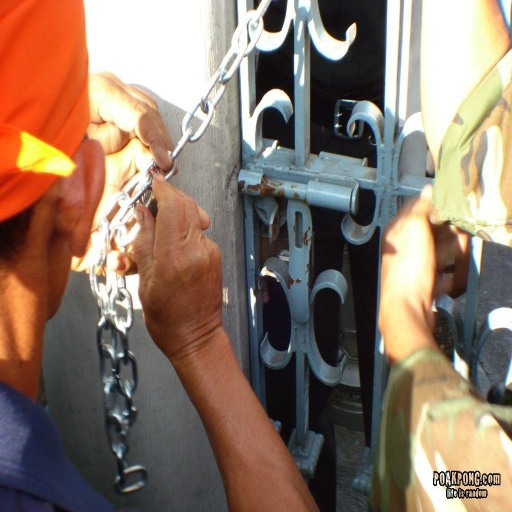hand: (130, 174, 221, 352), (380, 194, 454, 365), (87, 70, 176, 170), (259, 233, 287, 302), (446, 224, 469, 296)
